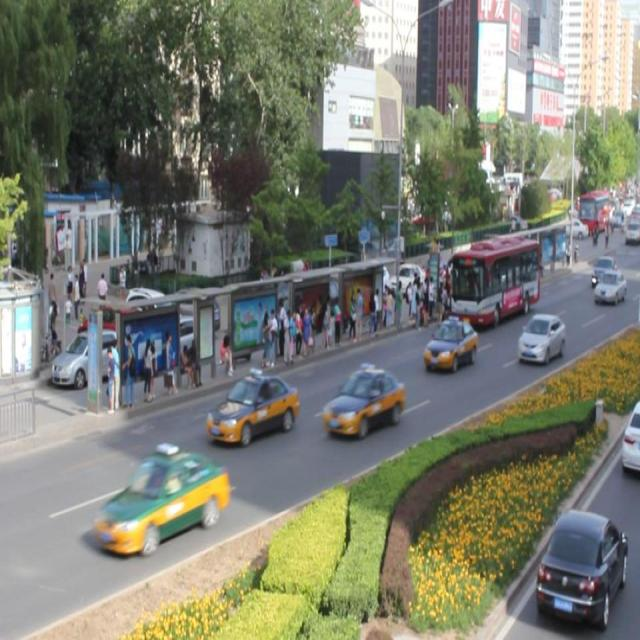car: (95, 450, 229, 555), (205, 372, 298, 446), (322, 365, 406, 439), (423, 318, 477, 372), (516, 314, 563, 364), (592, 266, 625, 304), (590, 255, 616, 285)
van: (447, 232, 538, 326)
